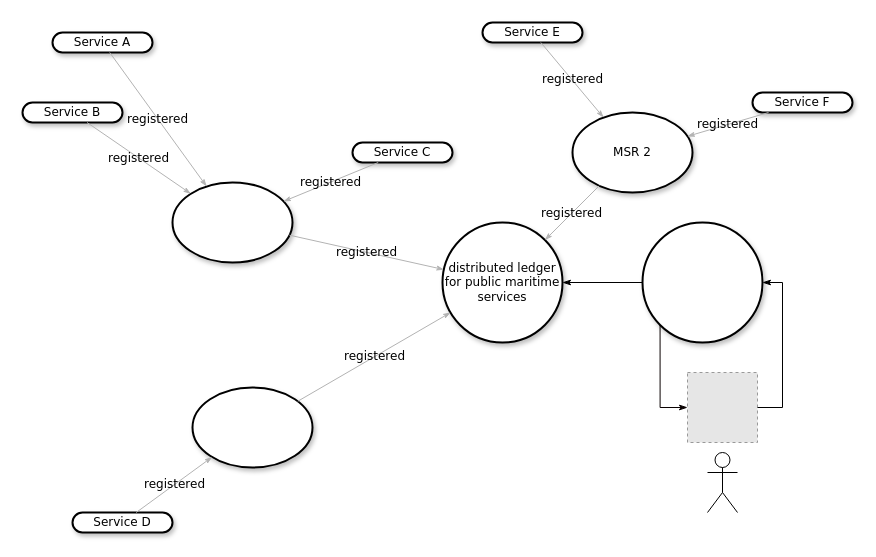
Image size: 876x557. Some labels were removed from this diagram. Grey dashed boxes stand in for pictures. Here are the shapes that lost their labels. From the top down, the centre of each, then its label:
[233,223]: MSR 1
[703,283]: MCC web service for global service discoverability
[253,428]: MSR 3
[722,482]: Service consumer
